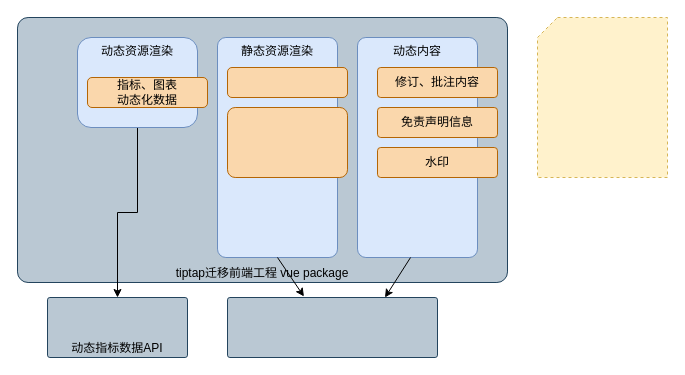
Image size: 685x375. Some labels were removed from this diagram. The centre of each missing label's shape, as x and y in pixels:
图表渲染: Echart 研报渲染：tiptap 动态数据静态化： 动态指标数据静态化 同研报内容一并保存: (x=602, y=97)
指标、图表 静态化数据: (x=287, y=82)
标题、段落、图形 表格、研报链接 ... ...: (x=287, y=142)
静态资源API: (x=332, y=327)
